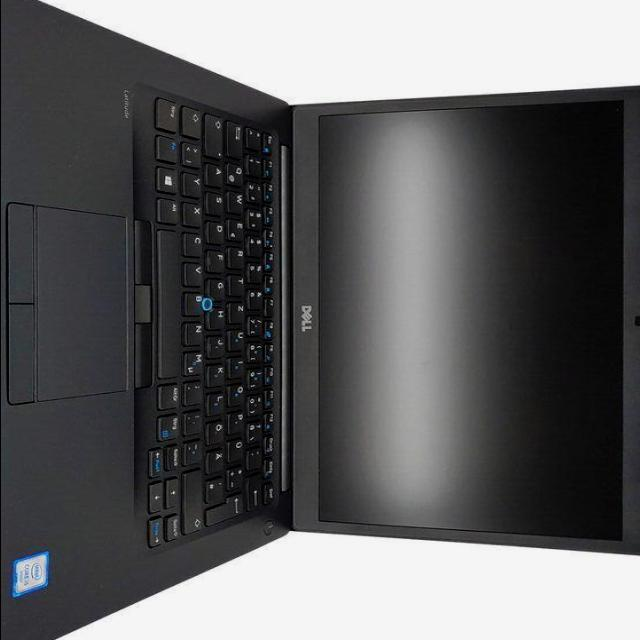0: (249, 391, 265, 415)
1: (248, 151, 266, 175)
2: (248, 178, 266, 202)
3: (249, 205, 266, 229)
4: (249, 232, 266, 256)
5: (249, 259, 265, 281)
6: (249, 286, 265, 308)
7: (249, 313, 266, 335)
8: (249, 339, 266, 361)
9: (249, 365, 266, 389)
a: (208, 161, 228, 185)
accent: (249, 446, 265, 468)
ae: (209, 447, 229, 473)
alt-left: (160, 195, 183, 222)
altgr-right: (161, 381, 184, 409)
b: (186, 290, 206, 315)
c: (186, 229, 206, 254)
caret: (249, 124, 265, 148)
comma: (186, 378, 206, 404)
d: (209, 219, 227, 243)
del: (249, 472, 265, 508)
e: (230, 216, 247, 240)
enter: (208, 491, 246, 525)
f: (209, 247, 229, 271)
g: (210, 276, 228, 298)
h: (211, 305, 228, 329)
hash: (208, 474, 228, 502)
i: (232, 354, 249, 376)
j: (210, 332, 230, 356)
k: (210, 361, 228, 385)
keyboard: (139, 84, 289, 554)
l: (209, 390, 229, 414)
less: (185, 138, 205, 166)
m: (186, 348, 206, 374)
minus: (186, 437, 208, 464)
n: (186, 319, 206, 344)
o: (232, 381, 247, 405)
oe: (210, 418, 228, 444)
p: (231, 409, 248, 433)
plus: (230, 464, 247, 489)
point: (187, 409, 207, 434)
q: (229, 160, 247, 184)
r: (231, 243, 248, 267)
s: (209, 189, 227, 213)
shift-left: (185, 103, 205, 137)
shift-lock: (207, 111, 227, 158)
shift-right: (186, 467, 206, 533)
space: (161, 226, 184, 376)
ss: (249, 419, 265, 443)
strg-left: (158, 94, 181, 130)
strg-right: (158, 414, 181, 442)
t: (232, 272, 248, 294)
tab: (230, 119, 247, 157)
u: (232, 327, 248, 349)
ue: (231, 436, 247, 461)
v: (186, 260, 206, 285)
w: (230, 187, 248, 211)
x: (186, 200, 206, 225)
y: (185, 170, 205, 196)
z: (232, 298, 248, 322)
